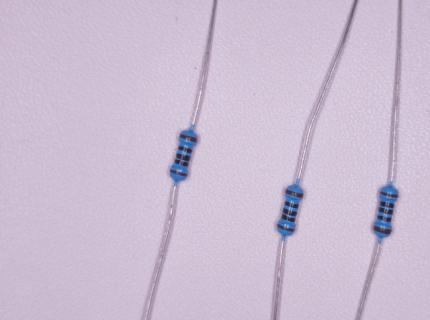Black band: (178, 146, 193, 154), (176, 154, 191, 162), (284, 201, 299, 209), (283, 208, 298, 216), (378, 207, 393, 215), (282, 214, 296, 222), (174, 160, 189, 167), (377, 215, 392, 222), (380, 201, 394, 208)
Brown band: (373, 226, 392, 235), (179, 134, 197, 143), (277, 223, 295, 232), (285, 190, 304, 198), (170, 170, 187, 177), (380, 192, 399, 198)
